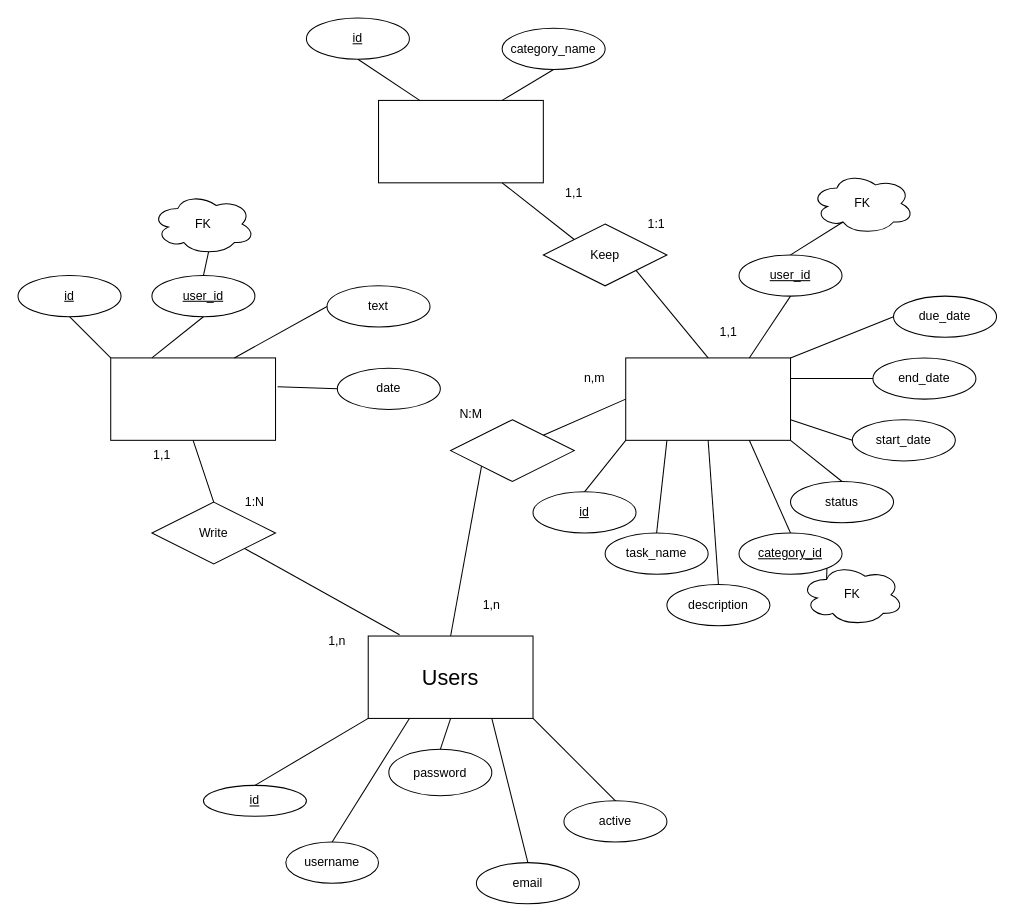
Image size: 1015x922. Some labels were removed from this diagram. The centre of each missing label's shape, as x and y in pixels:
"Categories" goes at (x=460, y=141).
"Chat" goes at (x=193, y=398).
"Have" goes at (x=512, y=450).
"Tasks" goes at (x=708, y=398).
